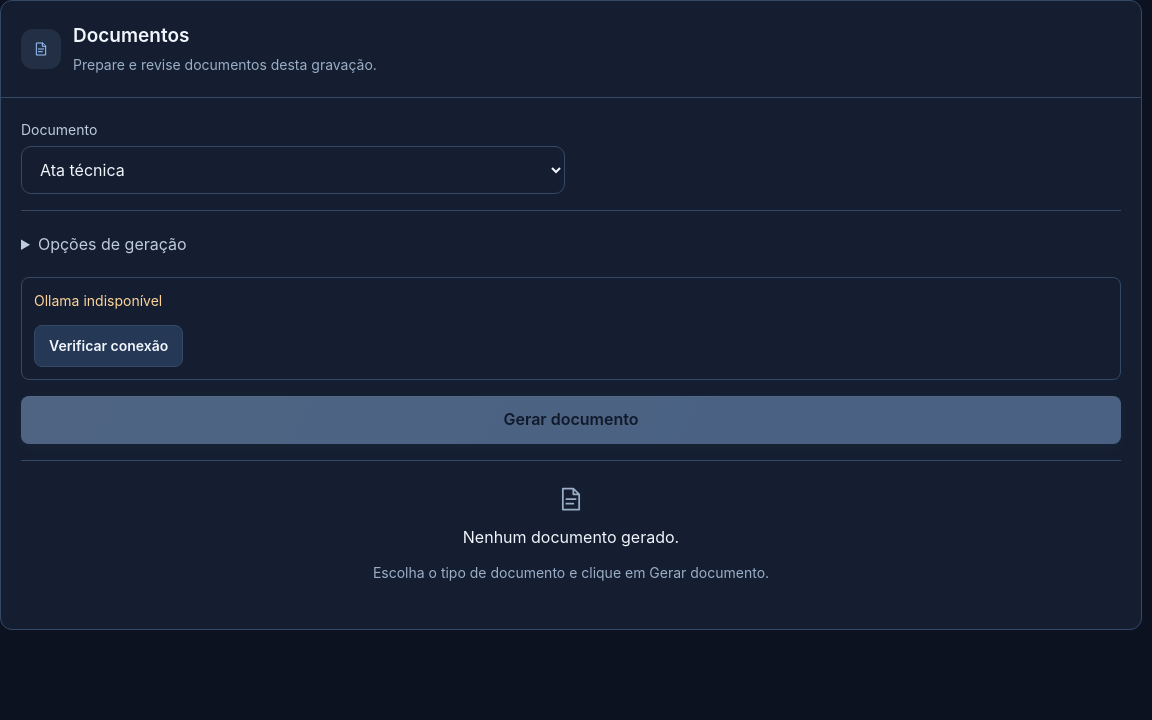
shows the unavailable provider state and can recheck the local connection
Expected: the text "Ollama indisponível" is shown, [34,292,162,309]
Expected: the button "Gerar documento" is disabled, [21,396,1121,444]
Step 1. Click the button "Verificar conexão" → point(109, 346), box [34,325,183,367]
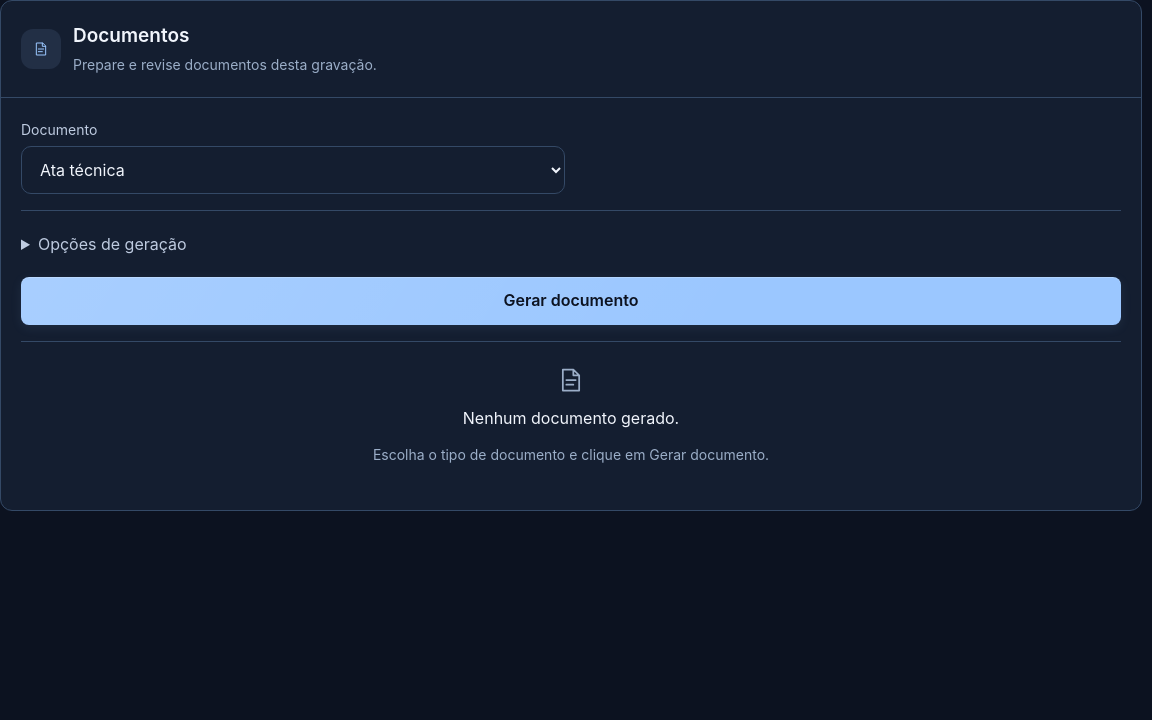
Result: the button "Gerar documento" is enabled at [21,277,1121,325]
